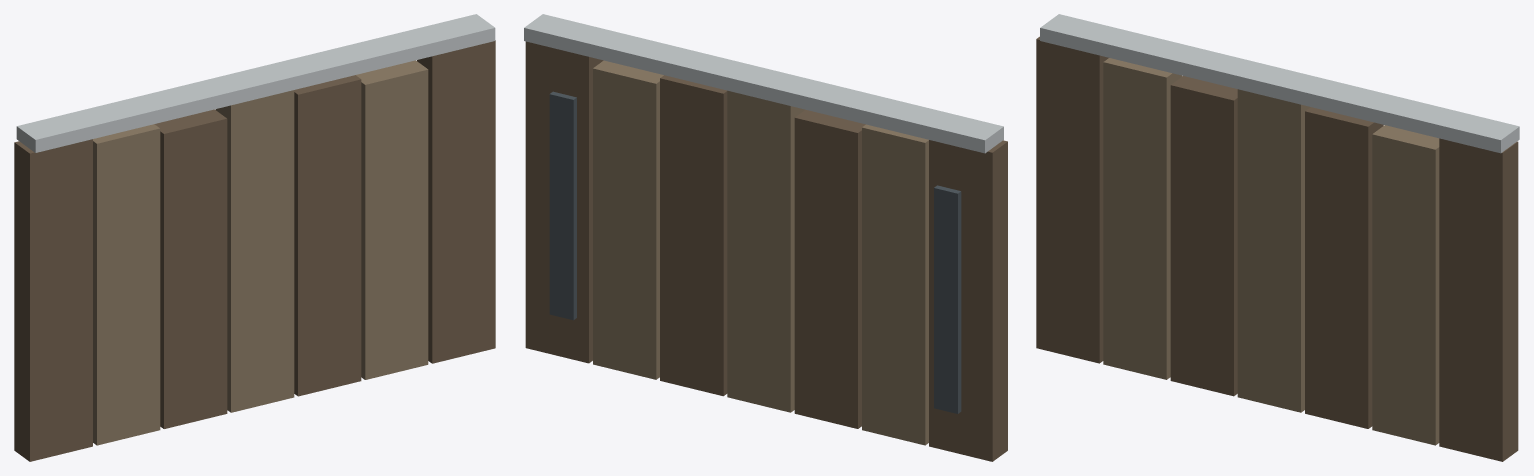
File: plank_patch.glb
3 views of the same model, side by side, from view 1: azimuth 30°, elevation 25°; view 2: azimuth 150°, elevation 25°; view 3: azimuth 330°, elevation 25° (orthographic).
Visible parts, largest first — view 1: plank_patch; view 2: plank_patch; view 3: plank_patch.
Part boxes in pixels (left/top/right/bottom): plank_patch: left=14, top=14, right=495, bottom=461; plank_patch: left=524, top=14, right=1007, bottom=461; plank_patch: left=1036, top=14, right=1519, bottom=461.
Bounding box in the file's own units: 2.88 × 1.9 × 0.2112.
